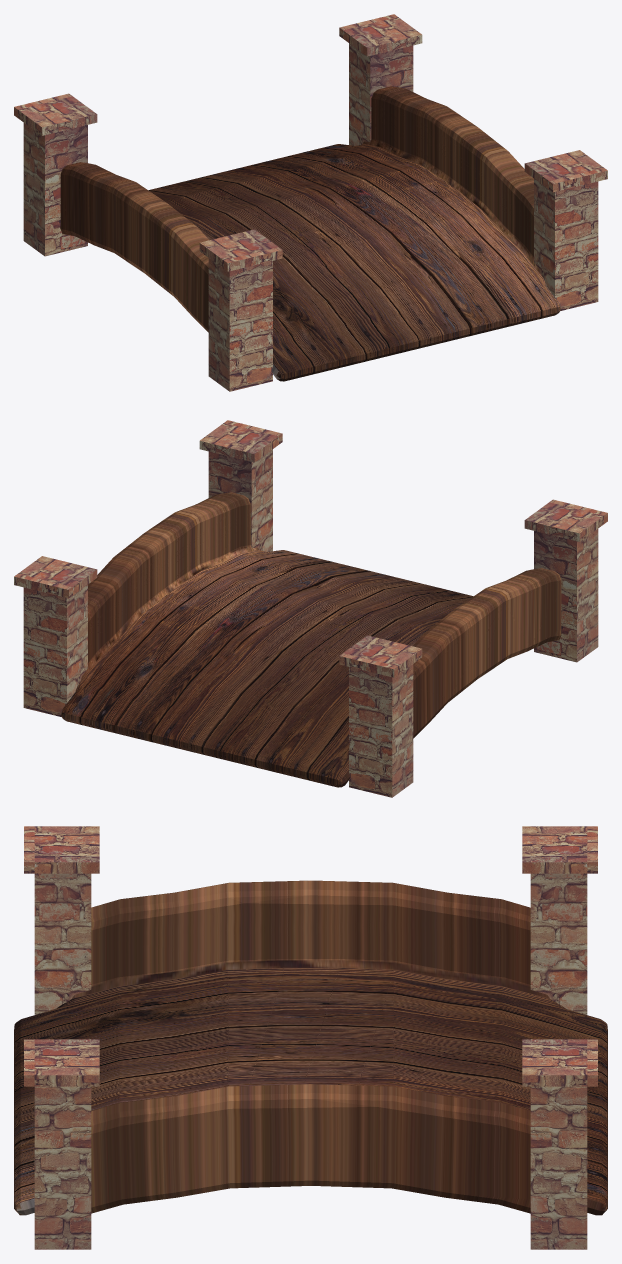
File: Bridge.glb
3 renders of one model, top to bottom at view 1: azimuth 30°, elevation 25°; view 2: azimuth 150°, elevation 25°; view 3: azimuth 270°, elevation 25°, orthographic. The views are drawn at different scales.
Parts seen in each view (by area): view 1: Plane, Cube; view 2: Plane, Cube; view 3: Plane, Cube.
Boxes of the visible parts, left/top/right/bottom form: Plane: left=60, top=86, right=560, bottom=381; Cube: left=14, top=14, right=607, bottom=391; Plane: left=61, top=492, right=561, bottom=787; Cube: left=14, top=420, right=607, bottom=797; Plane: left=14, top=880, right=607, bottom=1215; Cube: left=24, top=826, right=597, bottom=1249.
Size of the model in its own units: 2.89 by 0.9635 by 2.91.
2 materials, 2 textured.
